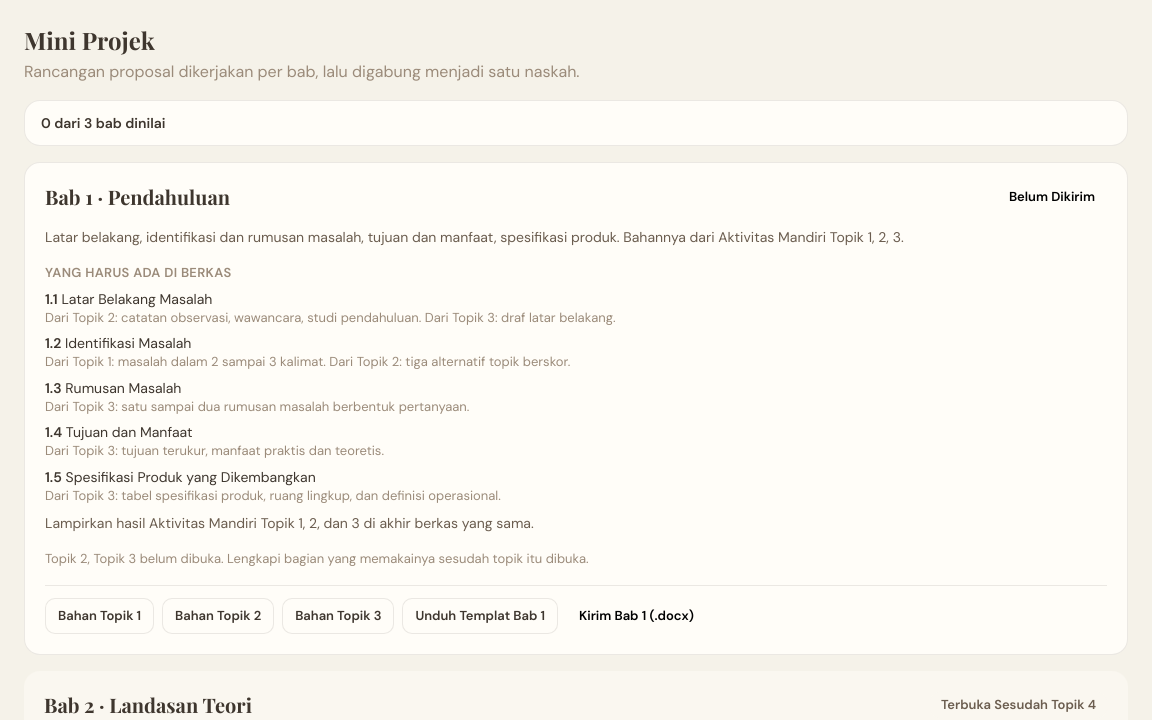
Scenario: MiniProjek › mengunduh templat memunculkan pesan singkat dan tautannya menuju berkas templat bab itu
Step 1. Click the link "Unduh Templat Bab 1" → {"x": 480, "y": 616}, box 402,598 -> 558,634
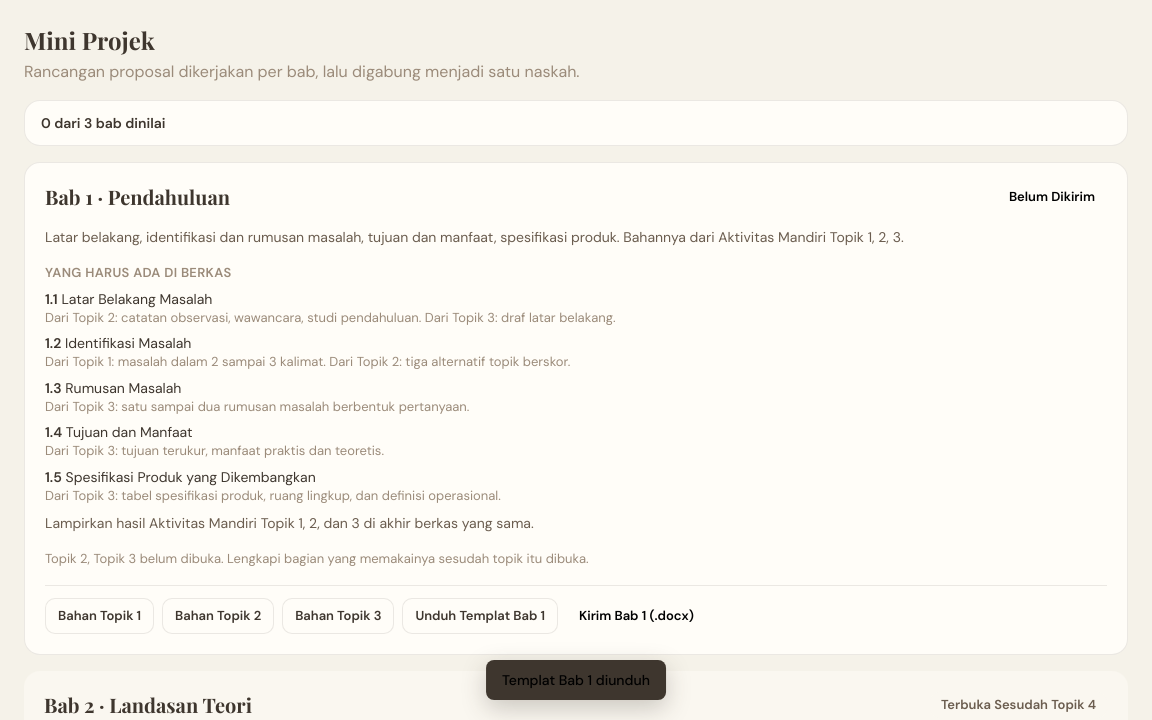
Result: the text "Templat Bab 1 diunduh" is shown at 486,660 -> 666,700
